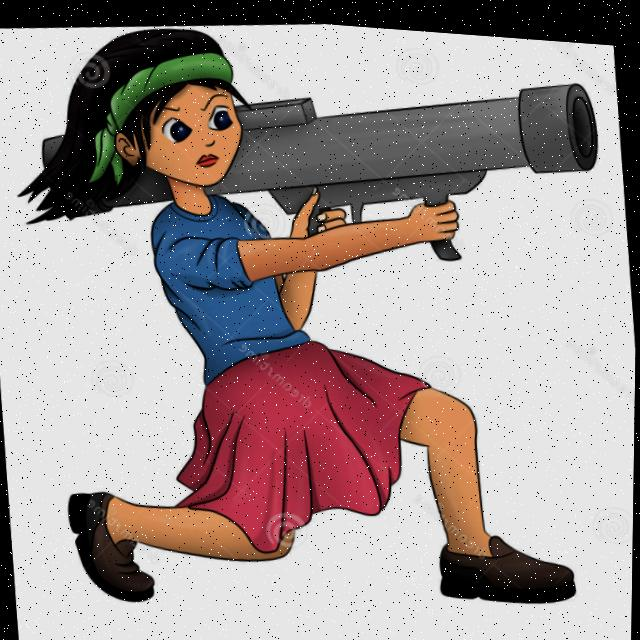rocket: (34, 39, 606, 294)
